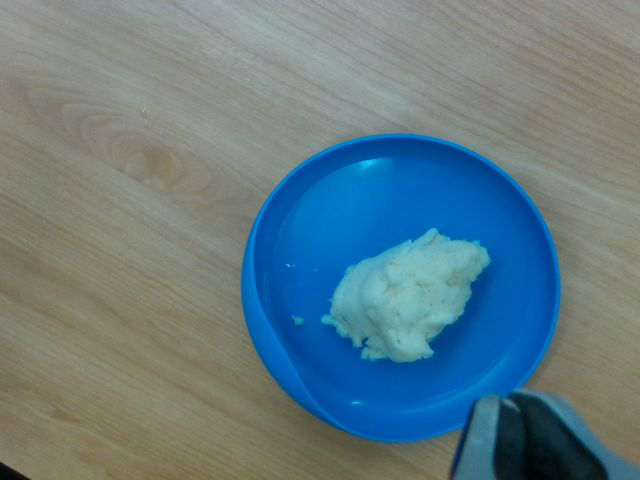mashed_potato: (329, 229, 490, 364)
